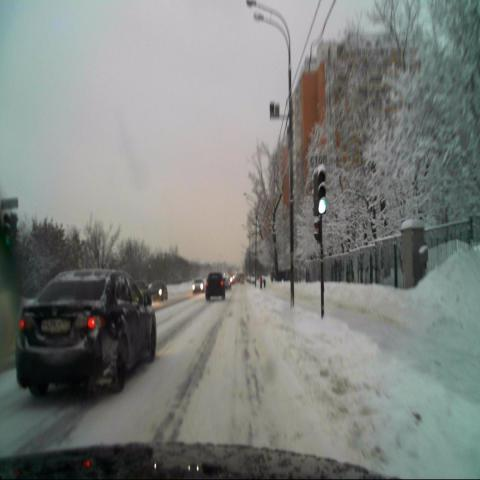6_16: (308, 152, 329, 167)
